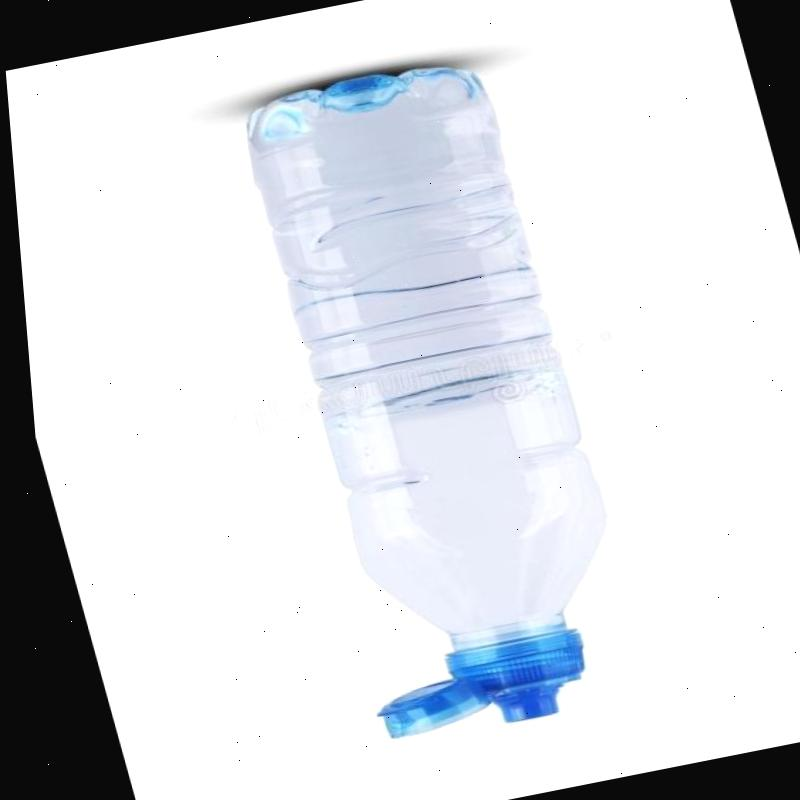botella: (202, 46, 654, 752)
